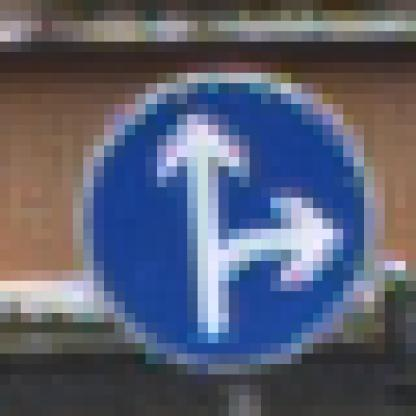Straight or Right: (63, 63, 365, 365)
